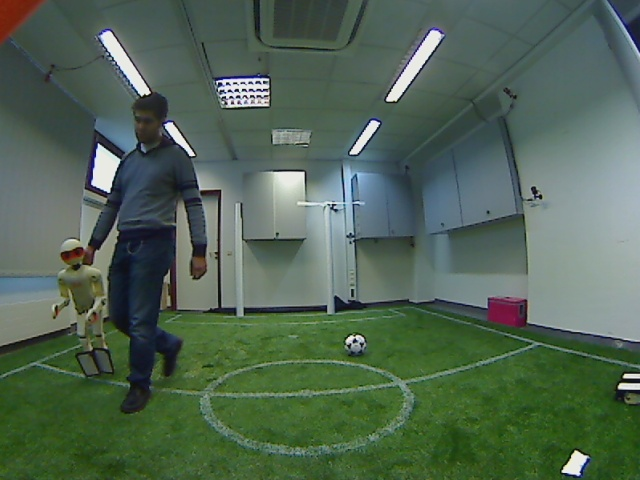ball: (339, 330, 370, 360)
robot: (47, 235, 123, 384)
